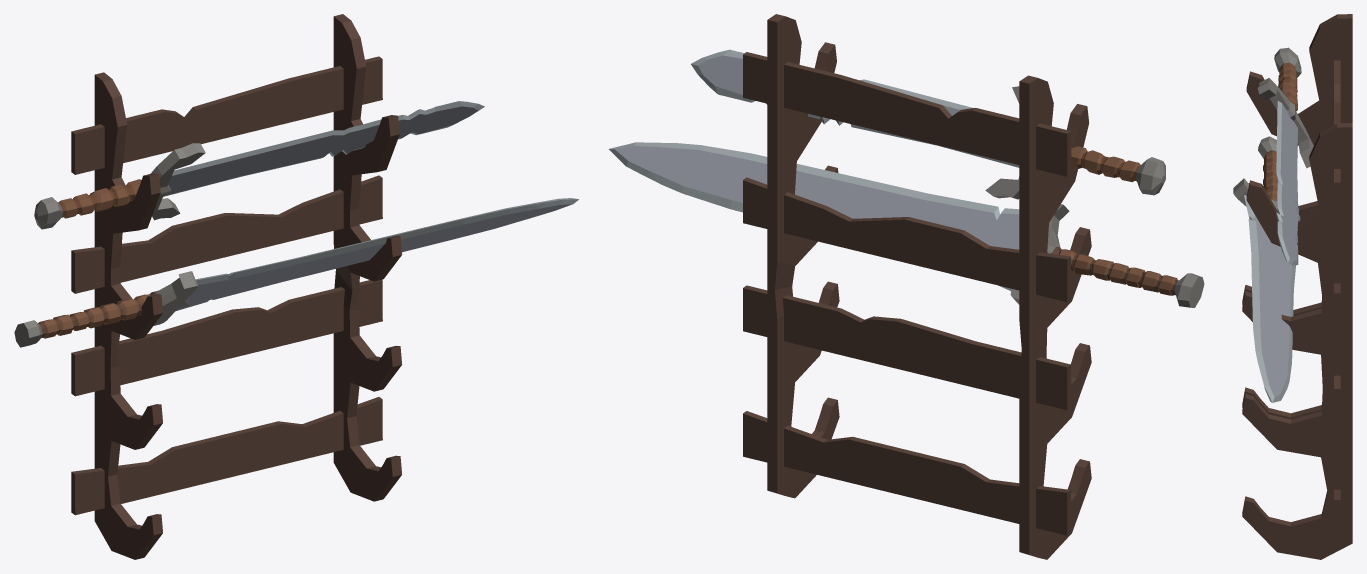
File: Sword_WallMount.glb
3 renders of one model, left to right at view 1: azimuth 30°, elevation 25°; view 2: azimuth 150°, elevation 25°; view 3: azimuth 270°, elevation 25°, orthographic. The views are drawn at different scales.
Parts seen in each view (by area): view 1: Sword_WallMount_Cube.002; view 2: Sword_WallMount_Cube.002; view 3: Sword_WallMount_Cube.002.
Boxes of the visible parts, <box> form: Sword_WallMount_Cube.002: <box>14,14,578,559</box>; Sword_WallMount_Cube.002: <box>609,14,1204,559</box>; Sword_WallMount_Cube.002: <box>1233,14,1352,559</box>.
Bounding box in the file's own units: 1.07 × 0.8471 × 0.2117.
Materials: 1 (1 with a texture image).
